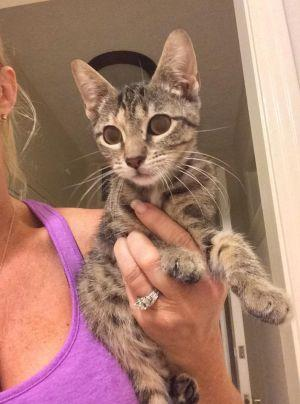bengal: (65, 24, 220, 196)
